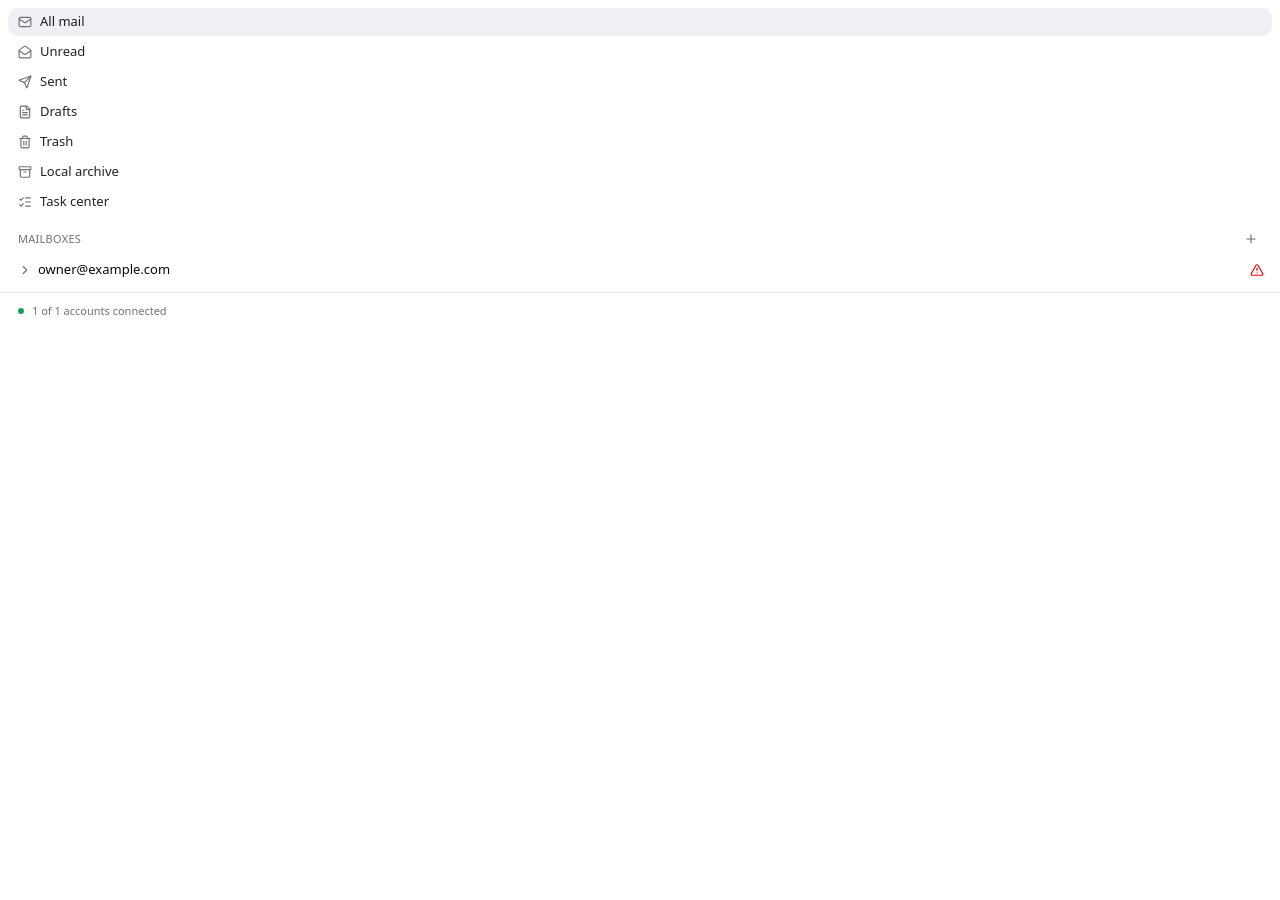
Sidebar sync failures › shows the failed folder error when the sync alert is clicked
Expected: the text "owner@example.com" is shown, [38,260,170,278]
Click the button named "Sync error for owner@example.com".
click(1257, 270)  # box [1246,259,1268,281]
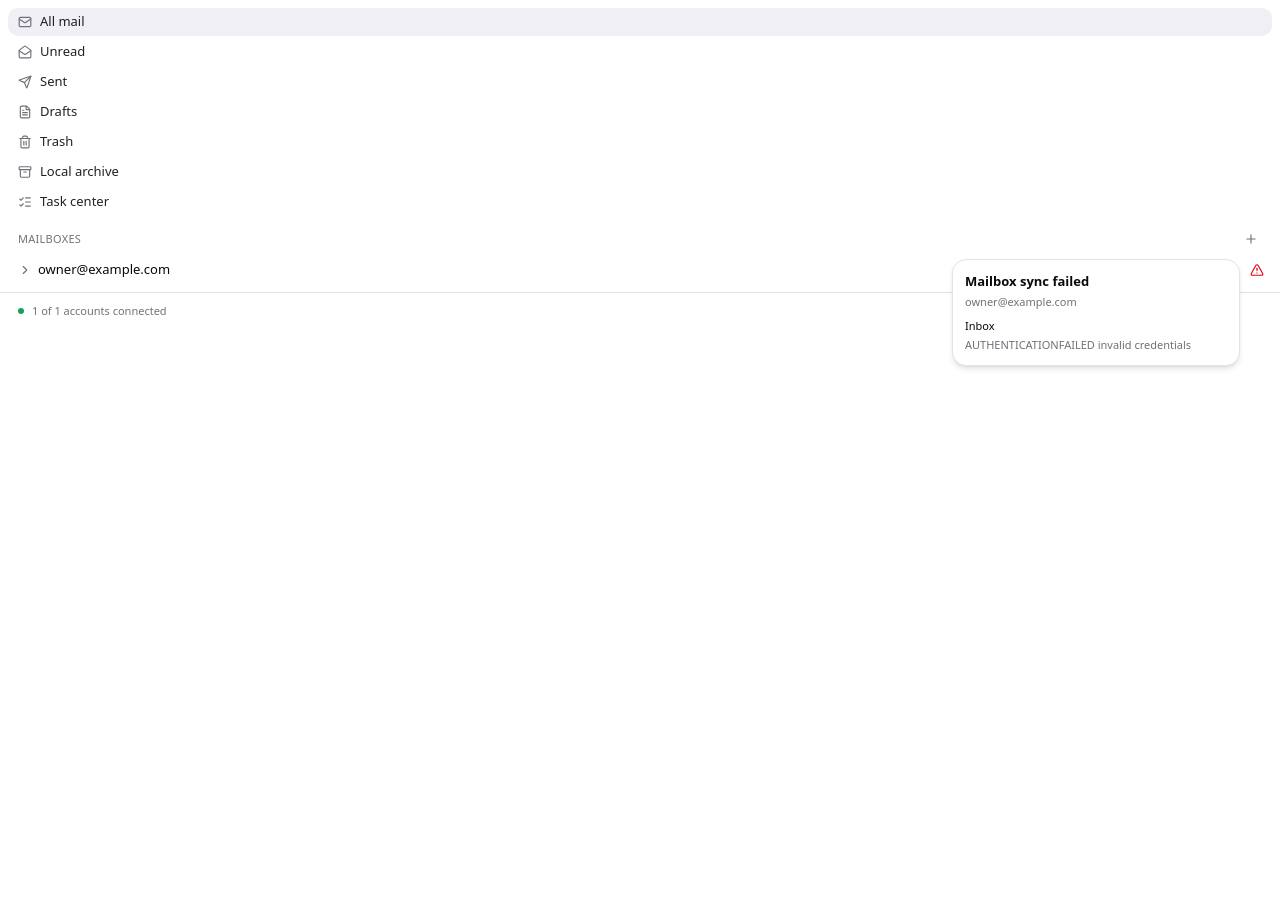
Expected: the text "Mailbox sync failed" is shown, [965,272,1089,290]
Expected: the text "Inbox" is shown, [965,318,994,333]
Expected: the text "AUTHENTICATIONFAILED invalid credentials" is shown, [965,336,1227,353]
